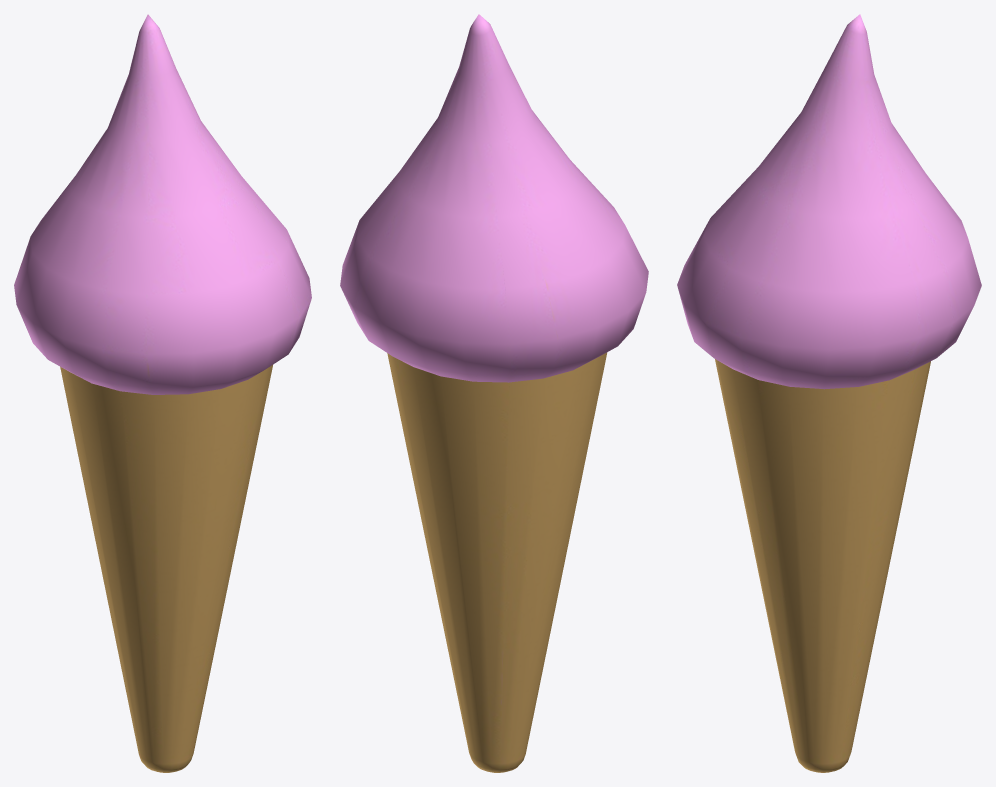
File: Ice_cream.fbx
3 renders of one model, left to right at view 1: azimuth 30°, elevation 25°; view 2: azimuth 150°, elevation 25°; view 3: azimuth 270°, elevation 25°, orthographic. The views are drawn at different scales.
Visible parts, largest first — view 1: Ice_cream; view 2: Ice_cream; view 3: Ice_cream.
Part boxes in pixels (box(x1,y1,x2,y2)): Ice_cream: box(14, 14, 311, 772); Ice_cream: box(340, 14, 648, 772); Ice_cream: box(677, 14, 981, 772).
Size of the model in its own units: 1.61 by 4.38 by 1.61.
Materials: 1 (1 with a texture image).
